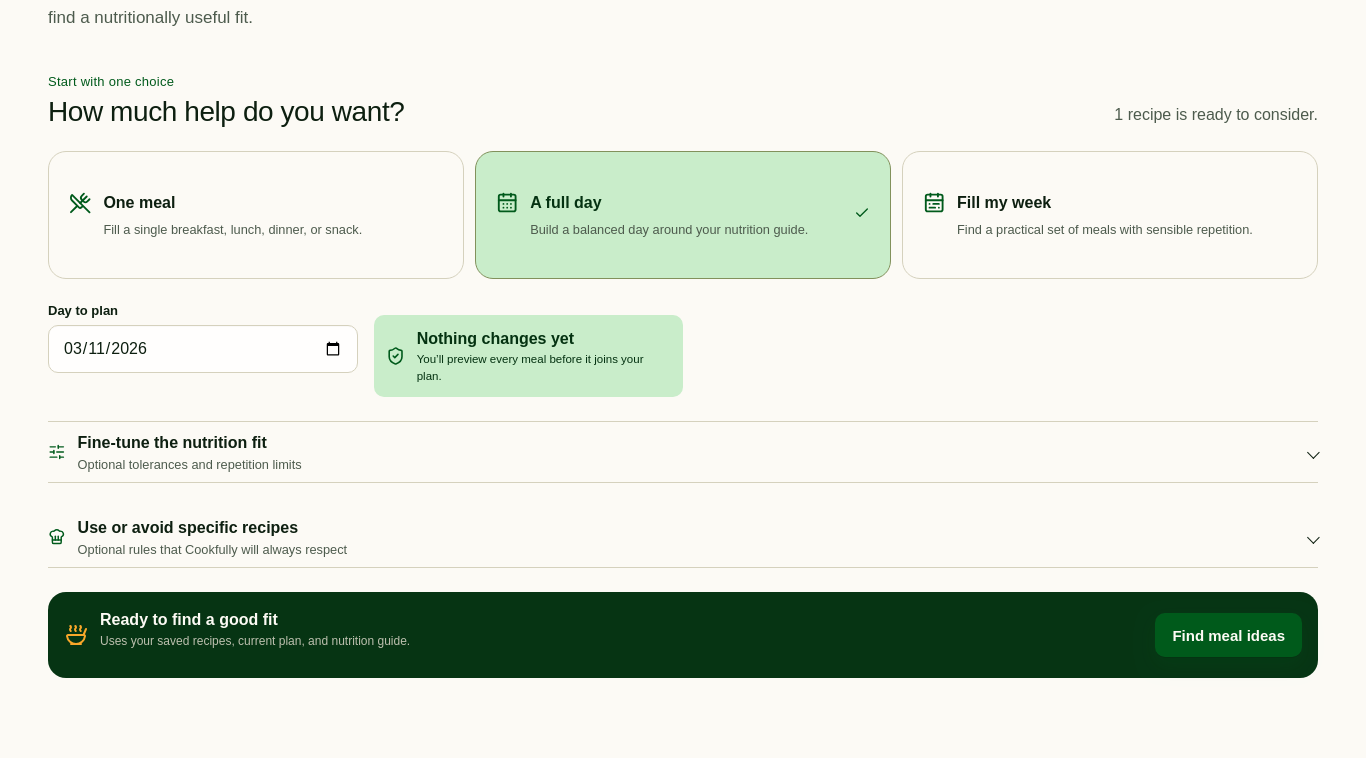
Test: suggestion UI › recovers explicitly when the plan changed before acceptance
(page scrolled)
Click the button "Find meal ideas" at (1229, 635), box [1156,613,1302,657]
(page scrolled)
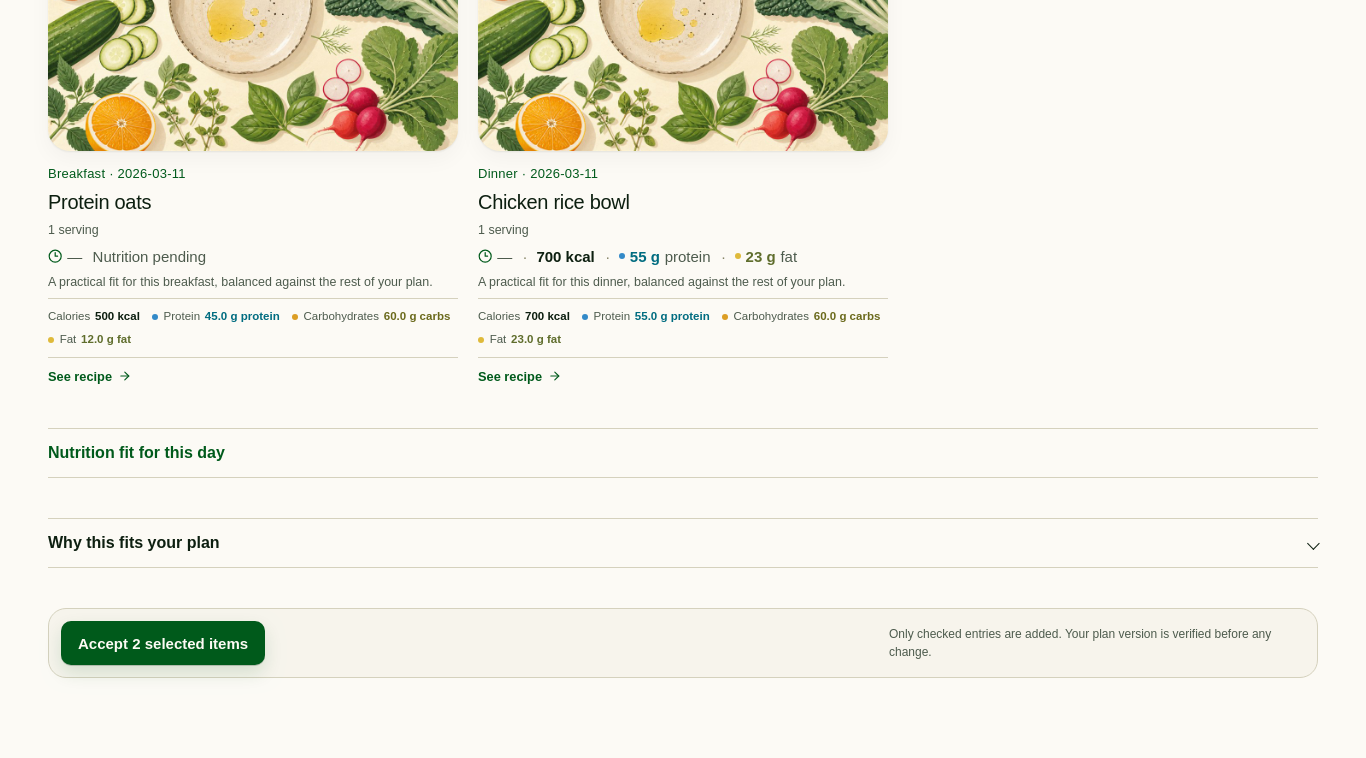
Click the button "Accept 2 selected items" at (163, 643), box [61,621,265,665]
(page scrolled)
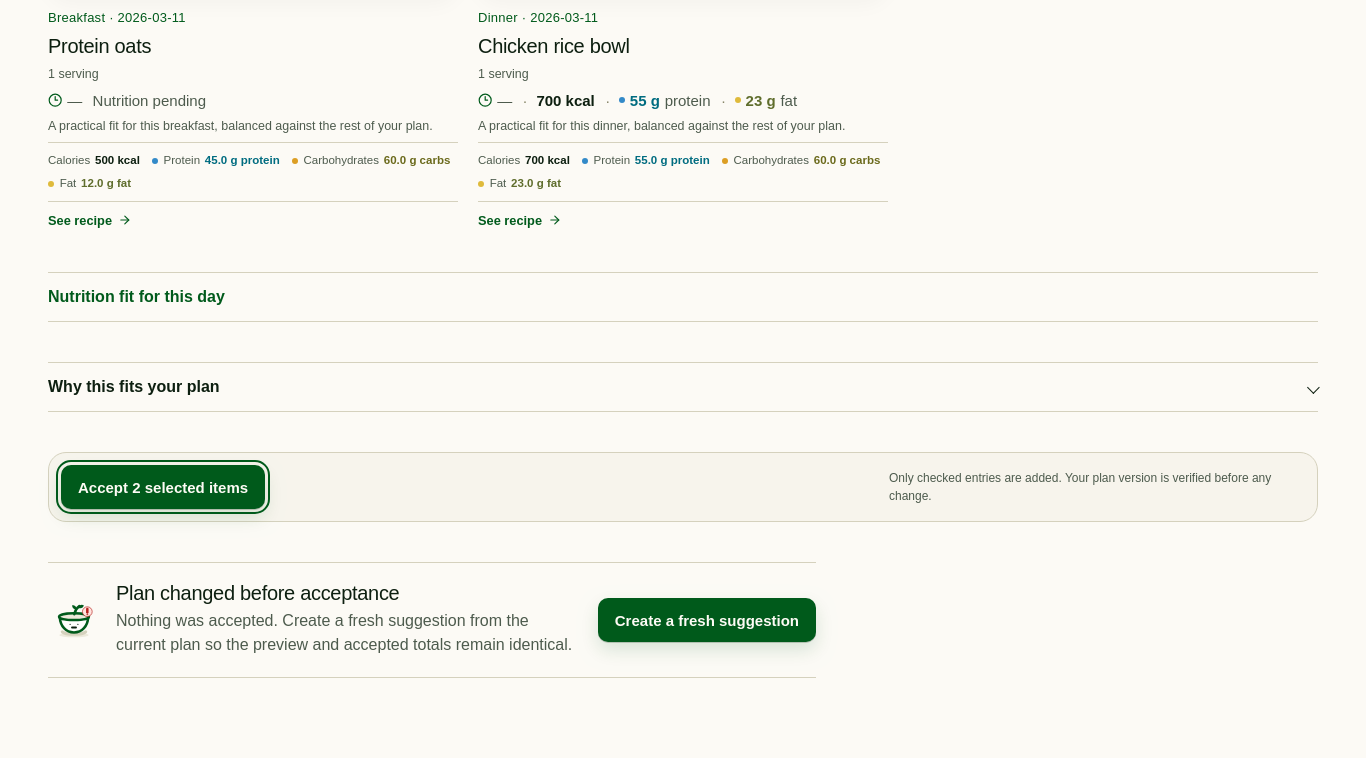
Now the heading "Plan changed before acceptance" is shown, box [116,582,400,604]
Now the button "Create a fresh suggestion" is shown, box [598,598,816,642]
